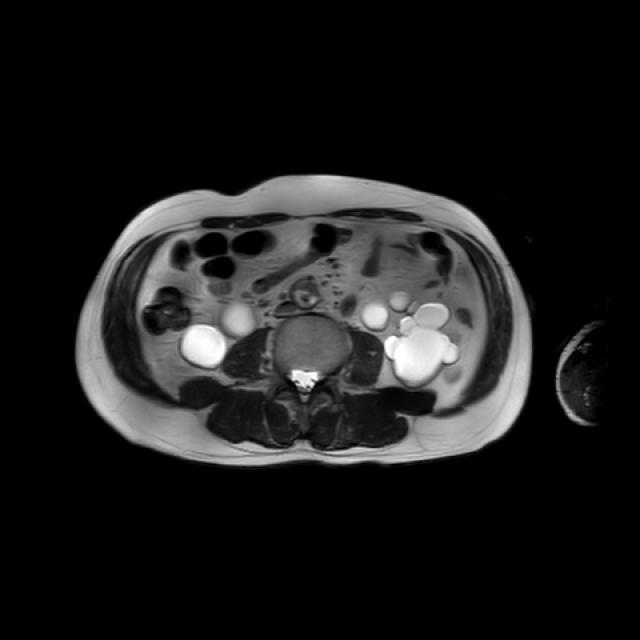sag: (182, 300, 256, 368)
sol: (363, 291, 461, 387)
